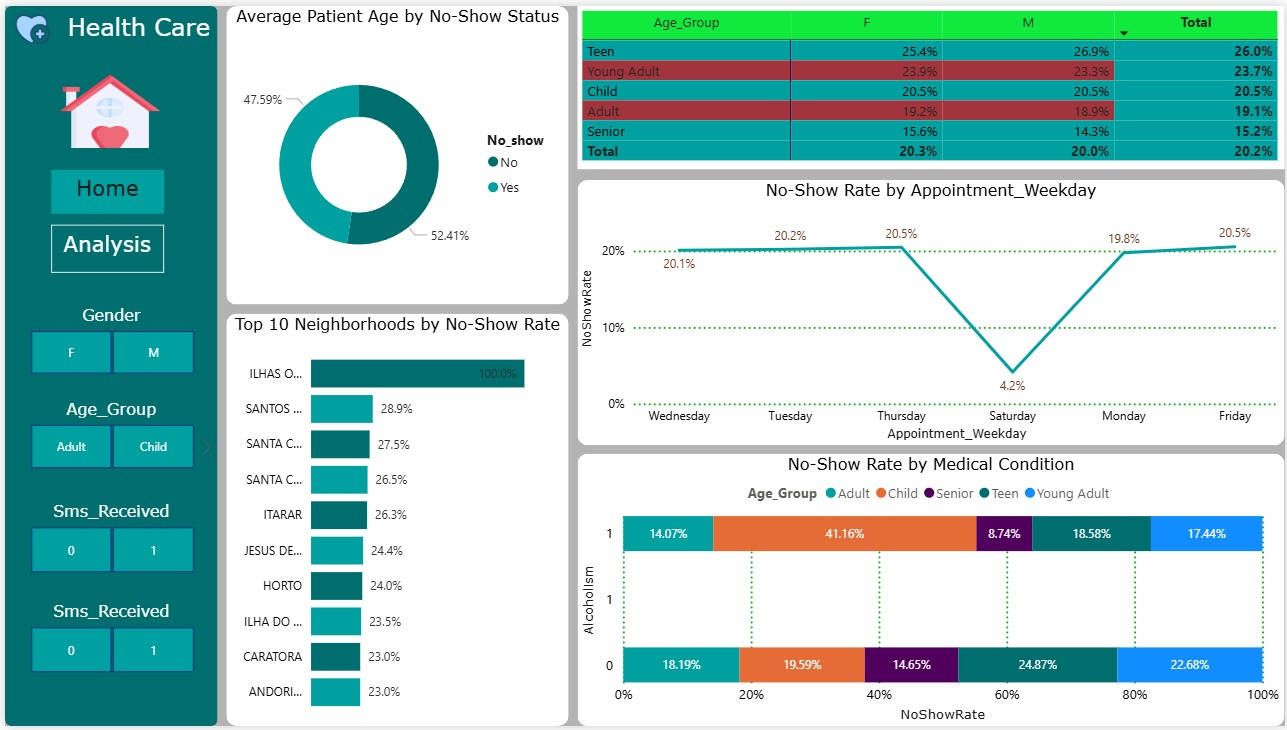

The page's visual inventory and layout, read from the dashboard file:
{"tool":"powerbi","page":{"name":"Analysis","canvas":[1280,720],"ordinal":1},"visuals":[{"type":"shape","box":[0,0,212.5,720],"z":0},{"type":"image","box":[46.7,61.7,118,87.8],"z":1000},{"type":"image","box":[0,1.4,54.8,43.8],"z":2000},{"type":"shape","box":[221.2,0,342.5,298.8],"z":3000},{"type":"shape","box":[221.2,307.5,342.5,412.5],"z":4000},{"type":"shape","box":[572.9,174.3,707.1,265.7],"z":5000},{"type":"shape","box":[572.9,447.1,707.1,272.9],"z":6000},{"type":"barChart","title":"Top 10 Neighborhoods by No-Show Rate","fields":{"Category":["health_db patient_appointment.Neighbourhood"],"Y":["health_db patient_appointment.NoShowRate"]},"box":[221.2,307.5,342.5,412.5],"z":7000},{"type":"hundredPercentStackedBarChart","title":"No-Show Rate by Medical Condition","fields":{"Category":["health_db patient_appointment.Alcoholism"],"Y":["health_db patient_appointment.NoShowRate"],"Series":["health_db patient_appointment.Age_Group"]},"box":[572.9,447.1,707.1,272.9],"z":8000},{"type":"lineChart","title":"No-Show Rate by Appointment_Weekday","fields":{"Category":["health_db patient_appointment.Appointment_Weekday"],"Y":["health_db patient_appointment.NoShowRate"]},"box":[572.9,174.3,707.1,265.7],"z":9000},{"type":"donutChart","title":"Average Patient Age by No-Show Status","fields":{"Category":["health_db patient_appointment.No_show"],"Y":["health_db patient_appointment.avg_age"]},"box":[221.4,0,342.9,298.6],"z":10000},{"type":"pivotTable","fields":{"Rows":["health_db patient_appointment.Age_Group"],"Columns":["health_db patient_appointment.Gender"],"Values":["health_db patient_appointment.NoShowRate"]},"box":[572.9,0,707.1,162.9],"z":11000},{"type":"textbox","box":[54.9,1.4,157.8,43.9],"z":12000},{"type":"textbox","box":[46.7,163.3,112.5,43.9],"z":13000},{"type":"textbox","box":[46.7,218.2,112.5,48],"z":14000},{"type":"actionButton","box":[46.7,163.3,112.5,43.9],"z":15000},{"type":"slicer","title":"Gender","fields":{"Values":["health_db patient_appointment.Gender"]},"box":[0,299.1,212.7,75.5],"z":16000},{"type":"slicer","title":"Age_Group","fields":{"Values":["health_db patient_appointment.Age_Group"]},"box":[0,392.5,212.7,76.8],"z":17000},{"type":"slicer","title":"Sms_Received","fields":{"Values":["health_db patient_appointment.SMS_received"]},"box":[0,495.4,212.7,78.2],"z":18000},{"type":"slicer","title":"Sms_Received","fields":{"Values":["health_db patient_appointment.SMS_received"]},"box":[0,595.5,212.7,78.2],"z":19000}]}

Visuals, with their boxes in screenshot pixels (x1, y1, x2, y2), scaled from the page's 1280x720 canvas onto the 1287x730 screenshot:
shape: x1=0 y1=0 x2=214 y2=729
image: x1=47 y1=63 x2=166 y2=152
image: x1=0 y1=1 x2=55 y2=46
shape: x1=222 y1=0 x2=567 y2=303
shape: x1=222 y1=312 x2=567 y2=729
shape: x1=576 y1=177 x2=1286 y2=446
shape: x1=576 y1=453 x2=1286 y2=729
"Top 10 Neighborhoods by No-Show Rate" barChart: x1=222 y1=312 x2=567 y2=729
"No-Show Rate by Medical Condition" hundredPercentStackedBarChart: x1=576 y1=453 x2=1286 y2=729
"No-Show Rate by Appointment_Weekday" lineChart: x1=576 y1=177 x2=1286 y2=446
"Average Patient Age by No-Show Status" donutChart: x1=223 y1=0 x2=567 y2=303
pivotTable - health_db patient_appointment.Age_Group x health_db patient_appointment.Gender: x1=576 y1=0 x2=1286 y2=165
textbox: x1=55 y1=1 x2=214 y2=46
textbox: x1=47 y1=166 x2=160 y2=210
textbox: x1=47 y1=221 x2=160 y2=270
actionButton: x1=47 y1=166 x2=160 y2=210
"Gender" slicer: x1=0 y1=303 x2=214 y2=380
"Age_Group" slicer: x1=0 y1=398 x2=214 y2=476
"Sms_Received" slicer: x1=0 y1=502 x2=214 y2=582
"Sms_Received" slicer: x1=0 y1=604 x2=214 y2=683
